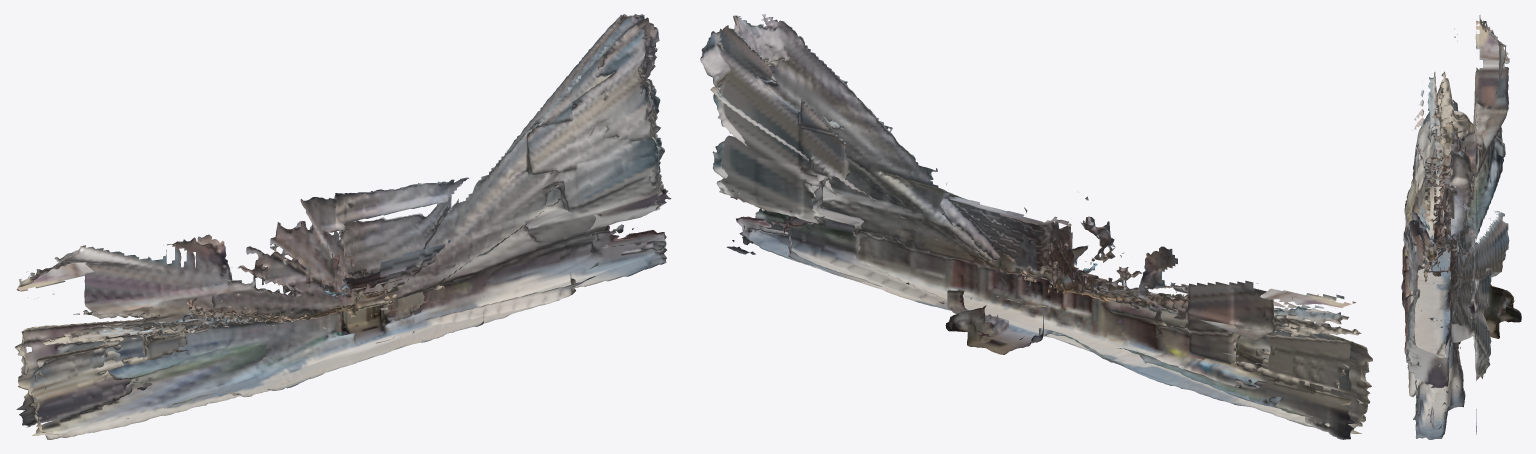
Rendered from 03_port_royal_ingresso_collider.glb.
The picture shows the model from 3 angles, left to right: view 1: azimuth 30°, elevation 25°; view 2: azimuth 150°, elevation 25°; view 3: azimuth 270°, elevation 25°; orthographic projection. The views are drawn at different scales.
Parts seen in each view (by area): view 1: world; view 2: world; view 3: world.
Boxes of the visible parts, box(x1,y1,x2,y2) form: world: box(15, 14, 671, 439); world: box(700, 14, 1372, 439); world: box(1401, 15, 1521, 439).
Bounding box in the file's own units: 55.74 × 22.83 × 8.84.
